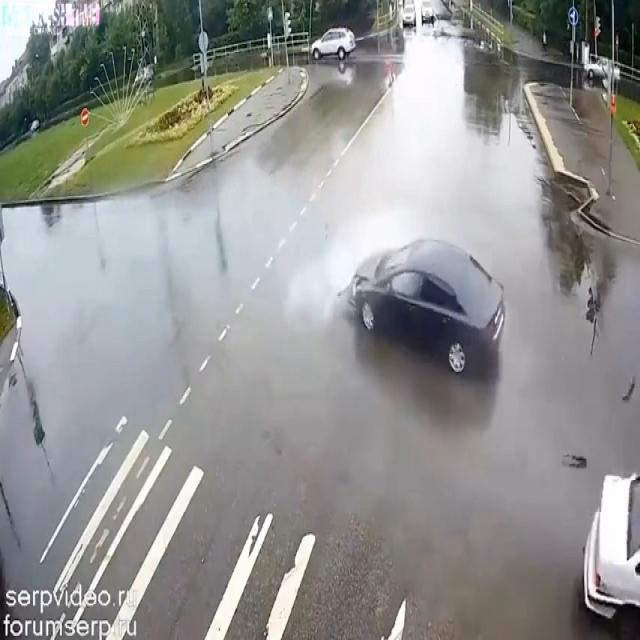Accident: (335, 193, 640, 640)
